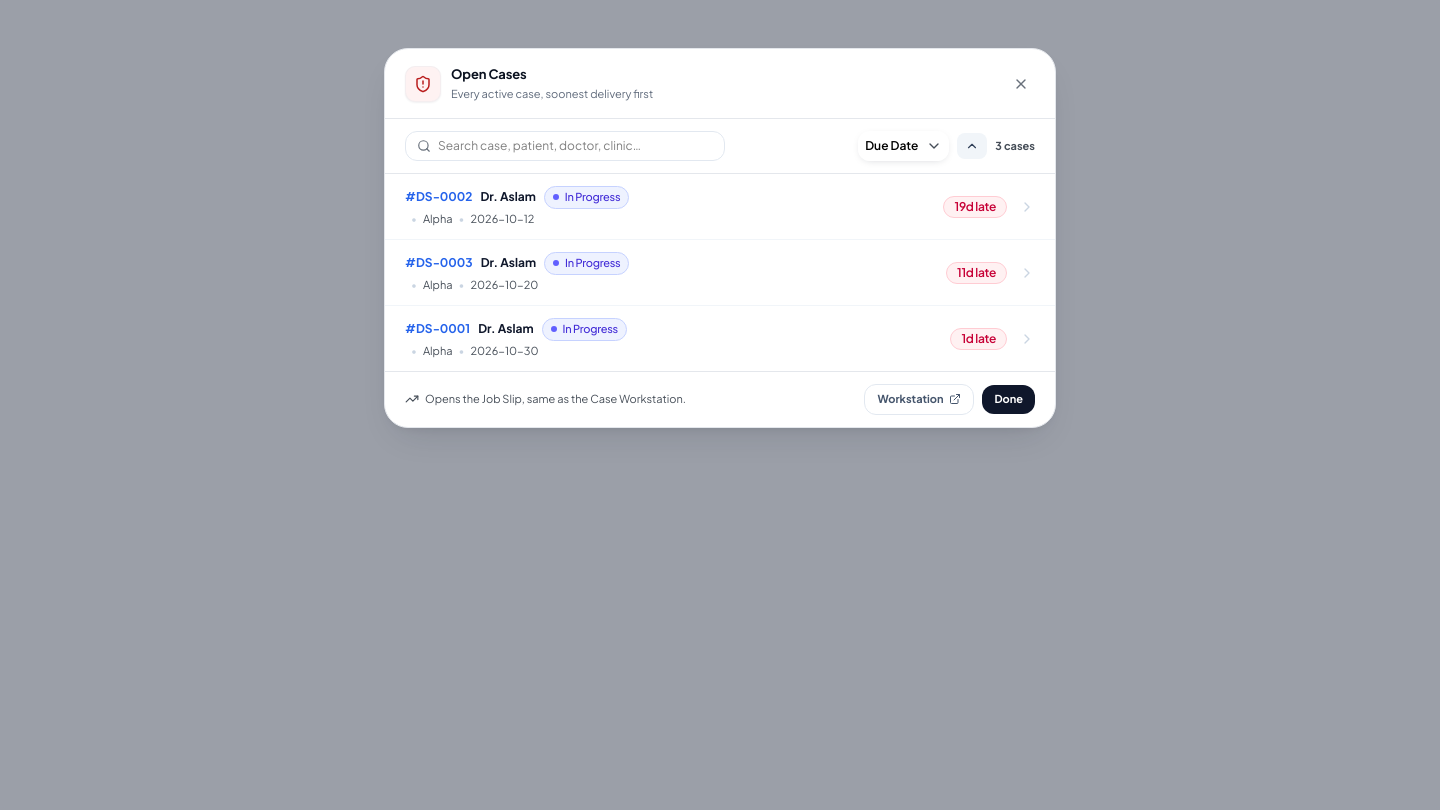
Test: case queue sorting › reverses when the direction is toggled
This screenshot has width=1440, height=810.
Click the button with aria-label "sort queue by" at x=904, y=146, box [858,131,949,161]
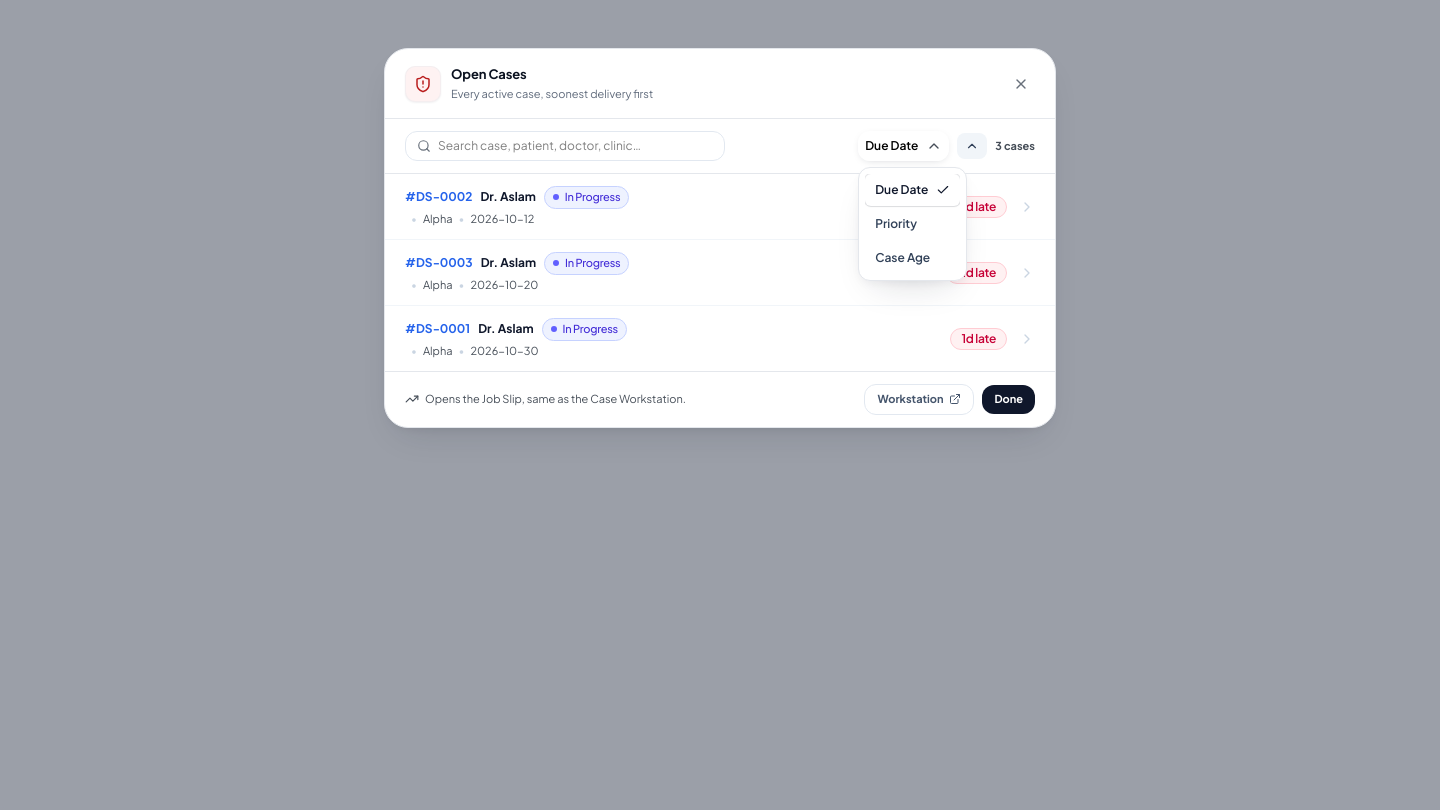
Click the option "Priority" at x=913, y=224, box [865,208,960,240]
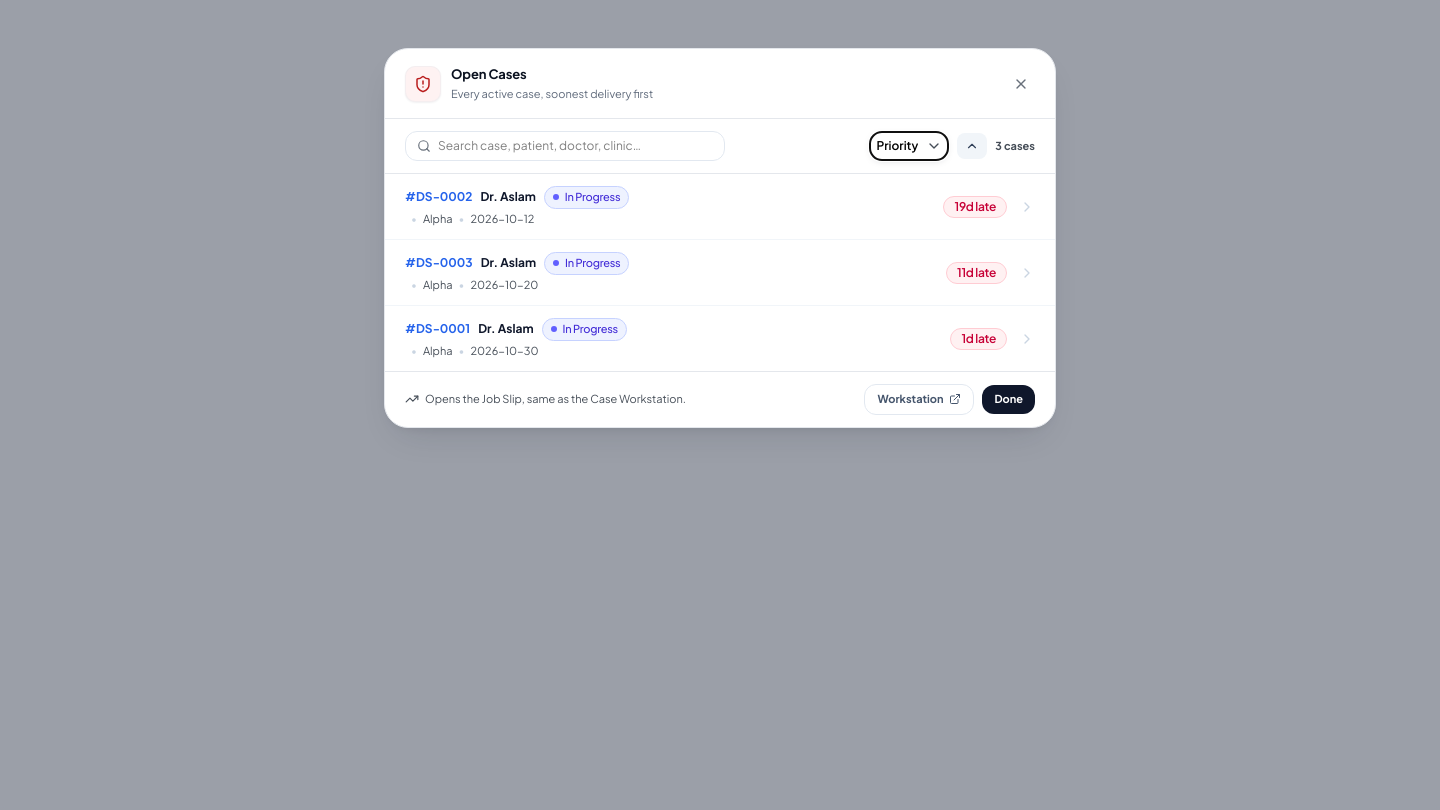
Click the button named "ascending" at x=972, y=146, box [957,133,987,159]
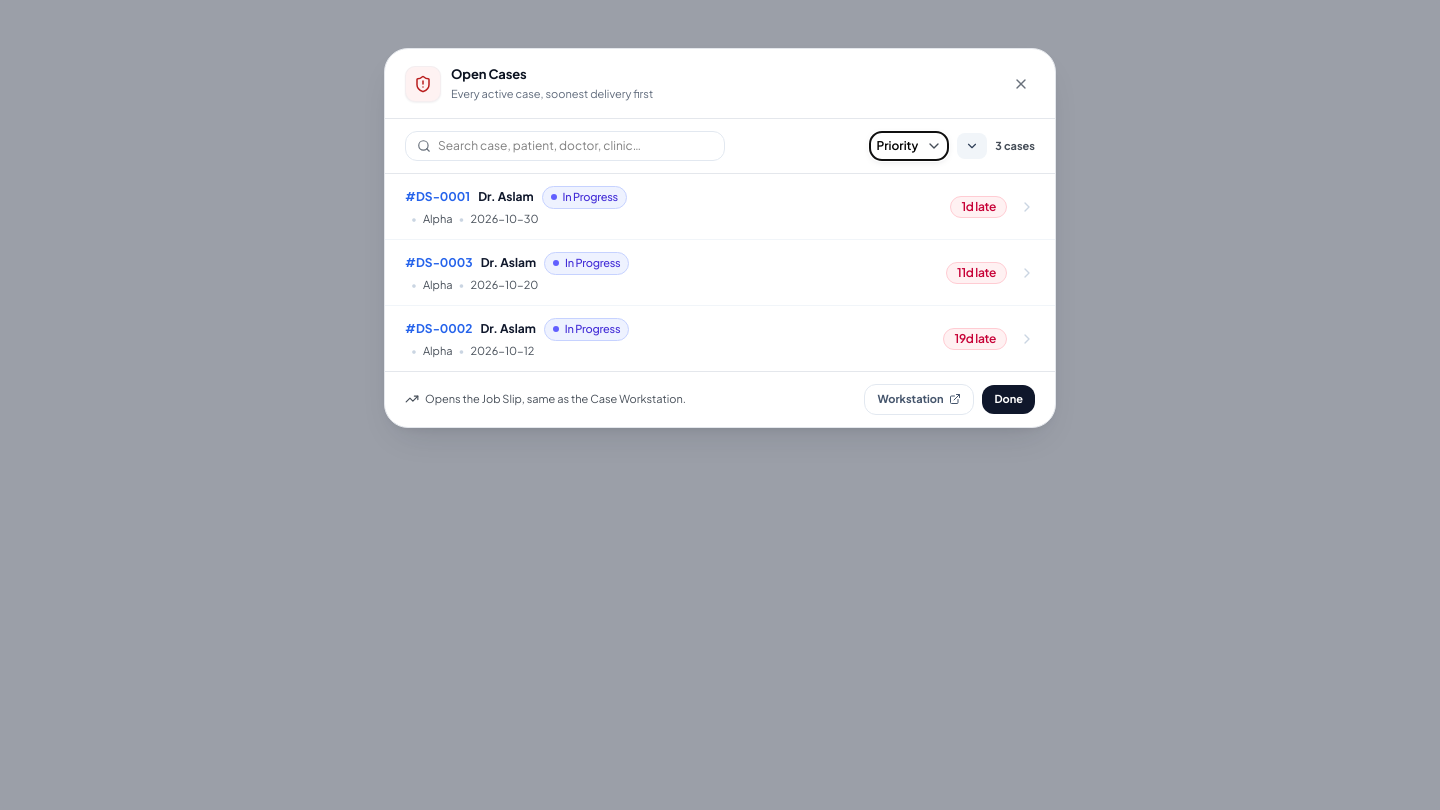
Expected: the button named "descending" is shown, [957,133,987,159]
